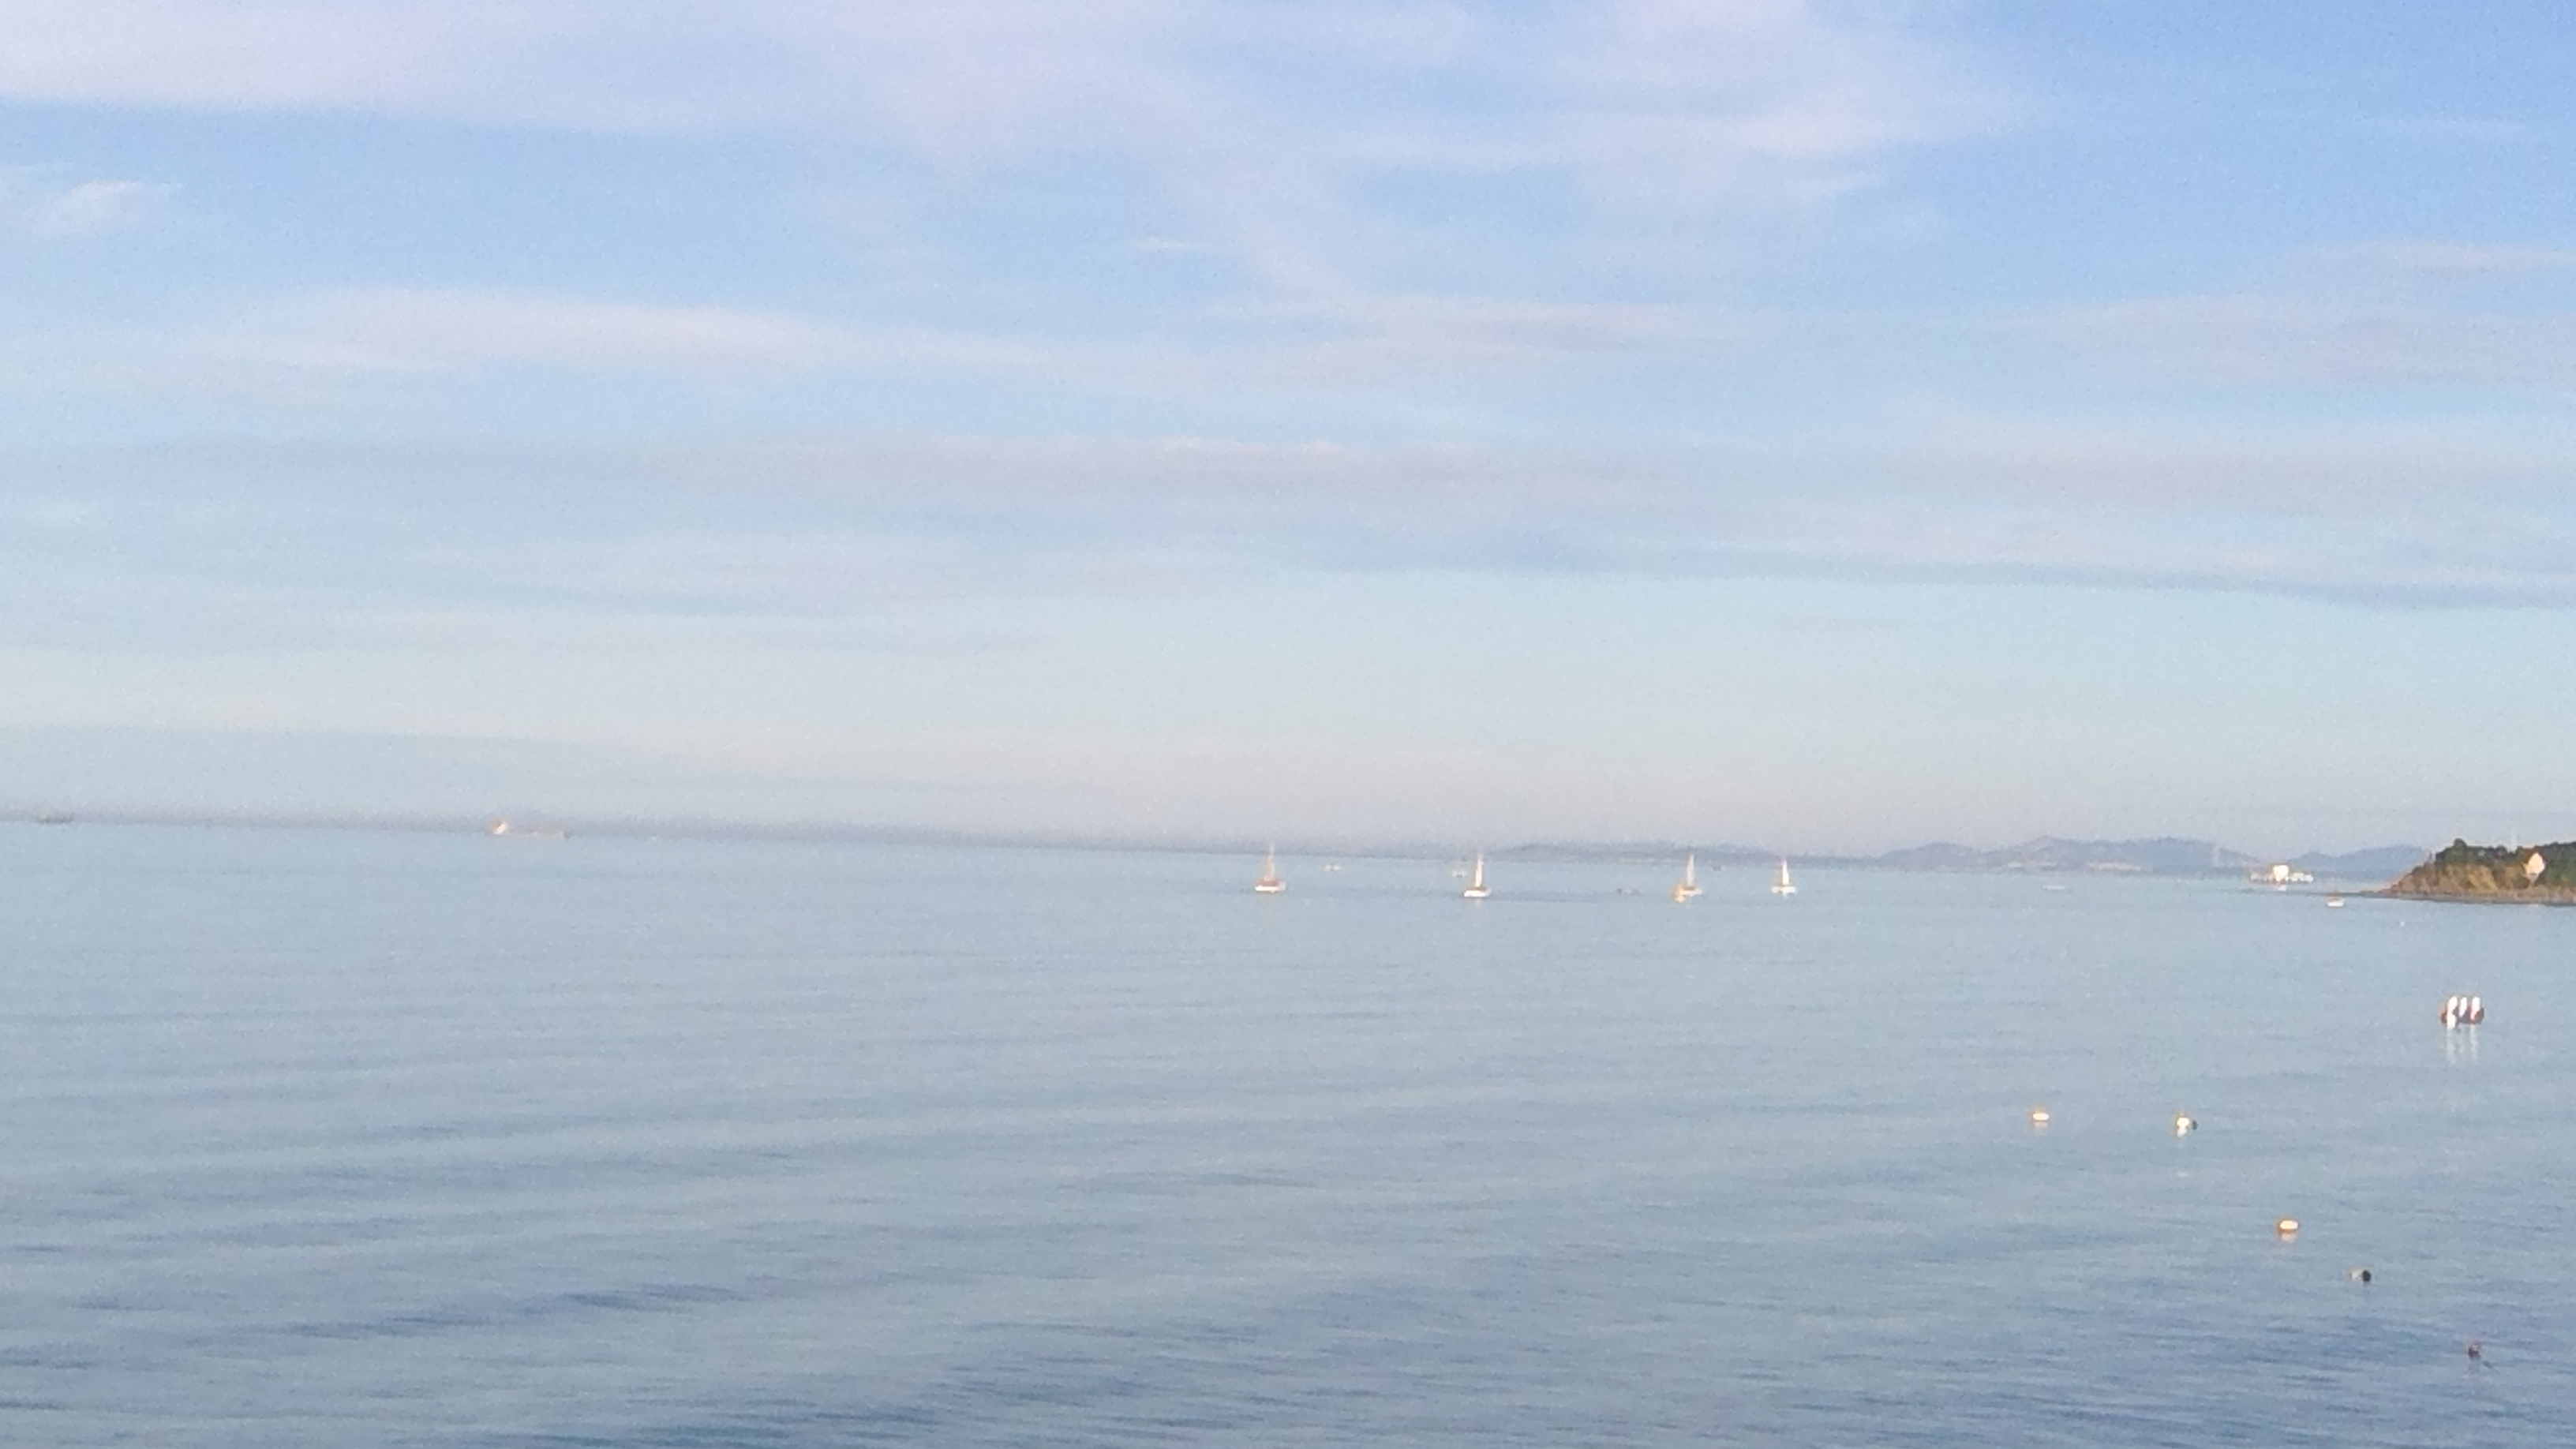buoy: (1244, 840, 1297, 906), (1663, 853, 1704, 911), (1456, 853, 1497, 906), (1767, 849, 1808, 899)
rock: (2365, 832, 2576, 909)
rubbish: (2431, 989, 2489, 1042)
